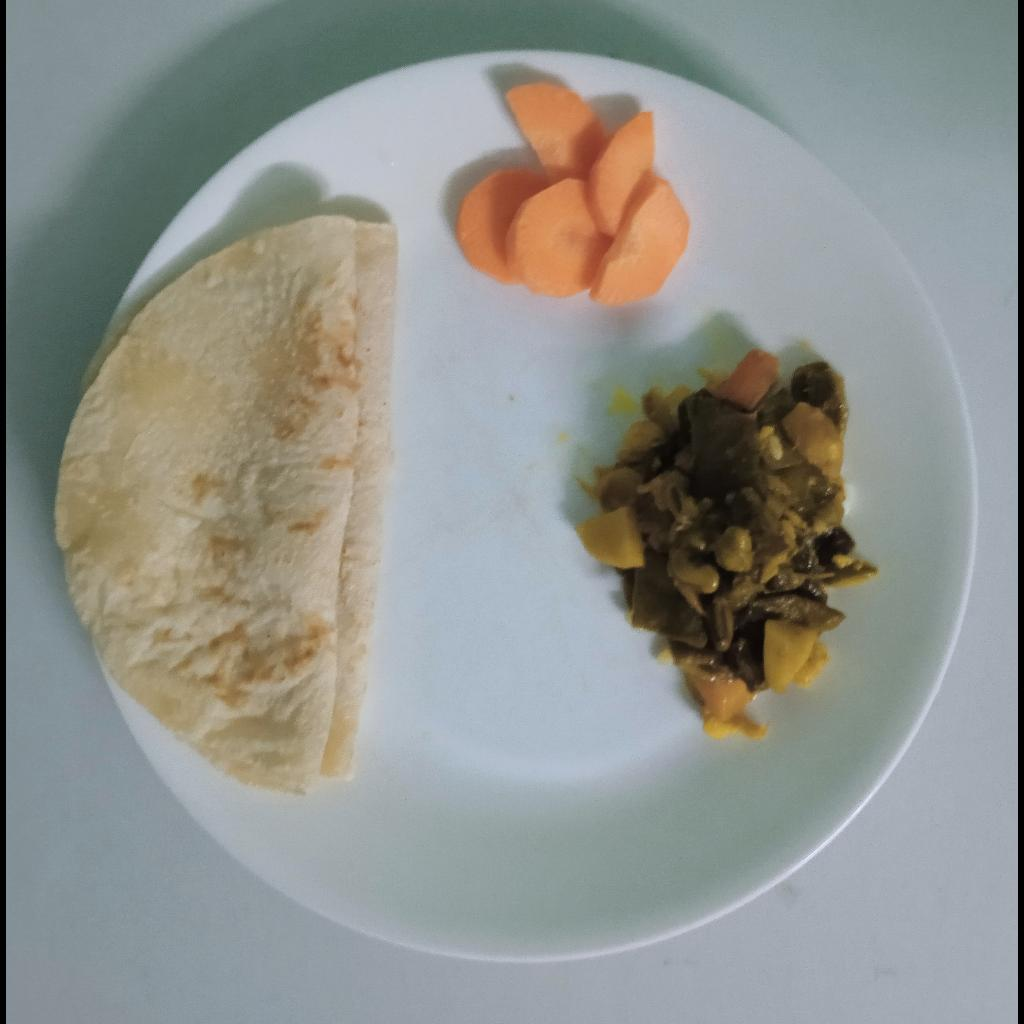carrot: (453, 80, 693, 304)
ruti: (50, 215, 400, 796)
vegetable: (573, 349, 882, 740)
